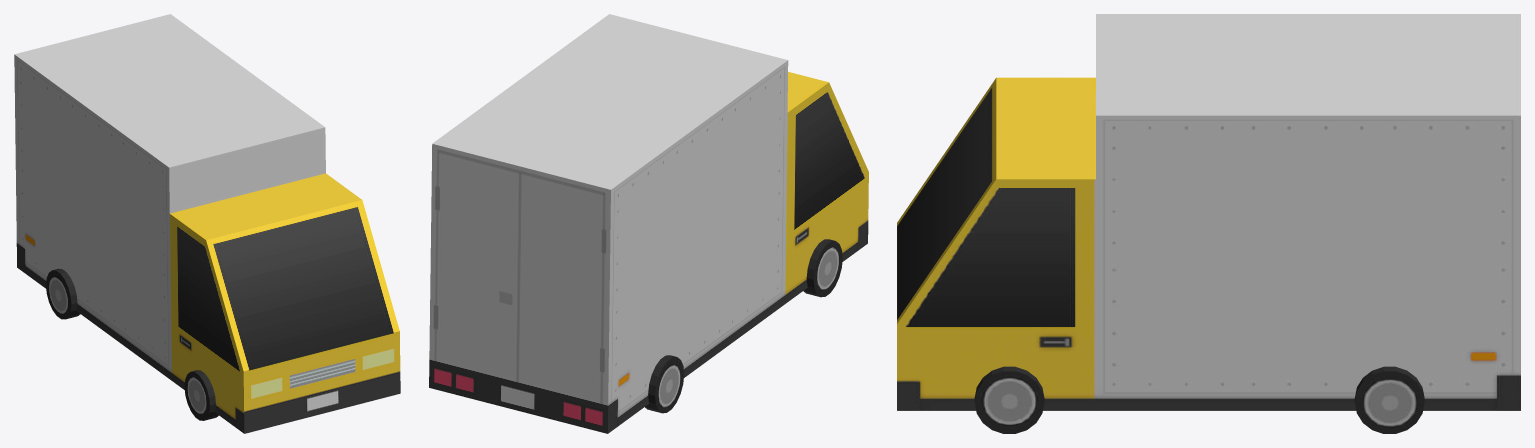
Rendered from item3.glb.
3 views of the same model, side by side, from view 1: azimuth 30°, elevation 25°; view 2: azimuth 150°, elevation 25°; view 3: azimuth 270°, elevation 25° (orthographic). The views are drawn at different scales.
Parts seen in each view (by area): view 1: Car_07; view 2: Car_07; view 3: Car_07.
Part boxes in pixels (left/top/right/bottom): Car_07: left=14, top=14, right=400, bottom=433; Car_07: left=429, top=14, right=868, bottom=433; Car_07: left=897, top=14, right=1520, bottom=433.
Size of the model in its own units: 0.5202 by 0.673 by 1.21.
Materials: 1 (1 with a texture image).
